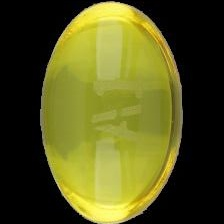61919-325: (0, 0, 224, 224)
